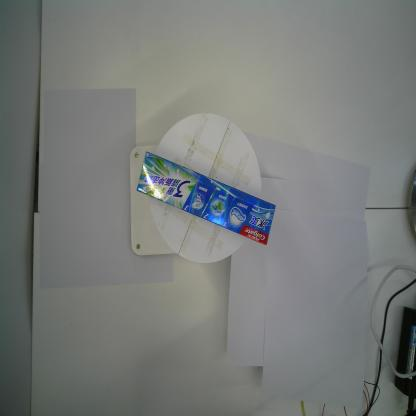Personal Hygiene: (136, 150, 276, 248)
